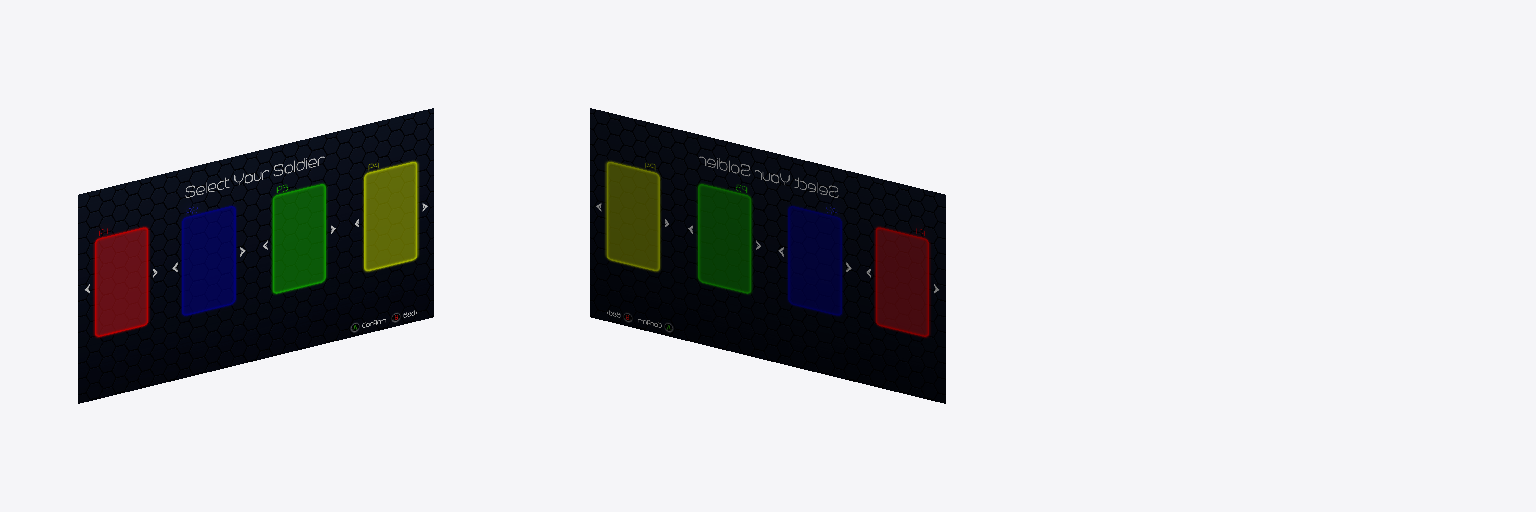
3 views of the same model, side by side, from view 1: azimuth 30°, elevation 25°; view 2: azimuth 150°, elevation 25°; view 3: azimuth 270°, elevation 25° (orthographic).
Parts seen in each view (by area): view 1: Plane; view 2: Plane; view 3: none.
Boxes of the visible parts, x1,y1,x2,y2 form: Plane: [78, 108, 433, 403]; Plane: [590, 108, 945, 403].
Bounding box in the file's own units: 240 × 135 × 0.
Materials: 1 (1 with a texture image).